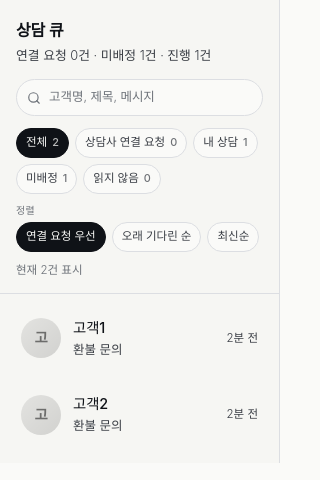
Test: QueuePanel › 미배정 필터를 선택하면 배정되지 않은 세션만 표시한다
Click the button "미배정 1" at x=47, y=179, box x1=16 y1=164 x2=77 y2=194
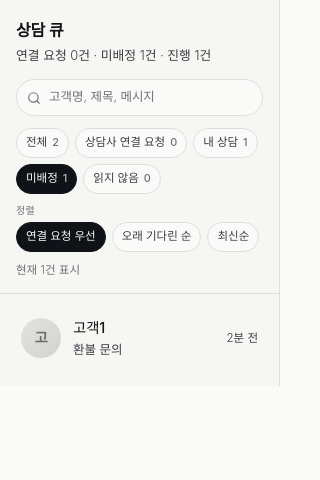
Expected: the text "고객1" is shown, x1=73 y1=317 x2=105 y2=339
Expected: the button "고객2" is gone
